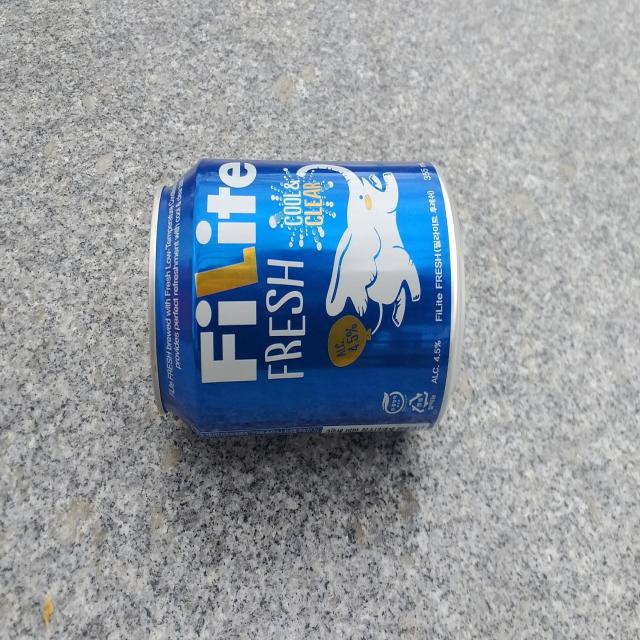can: (148, 158, 465, 436)
